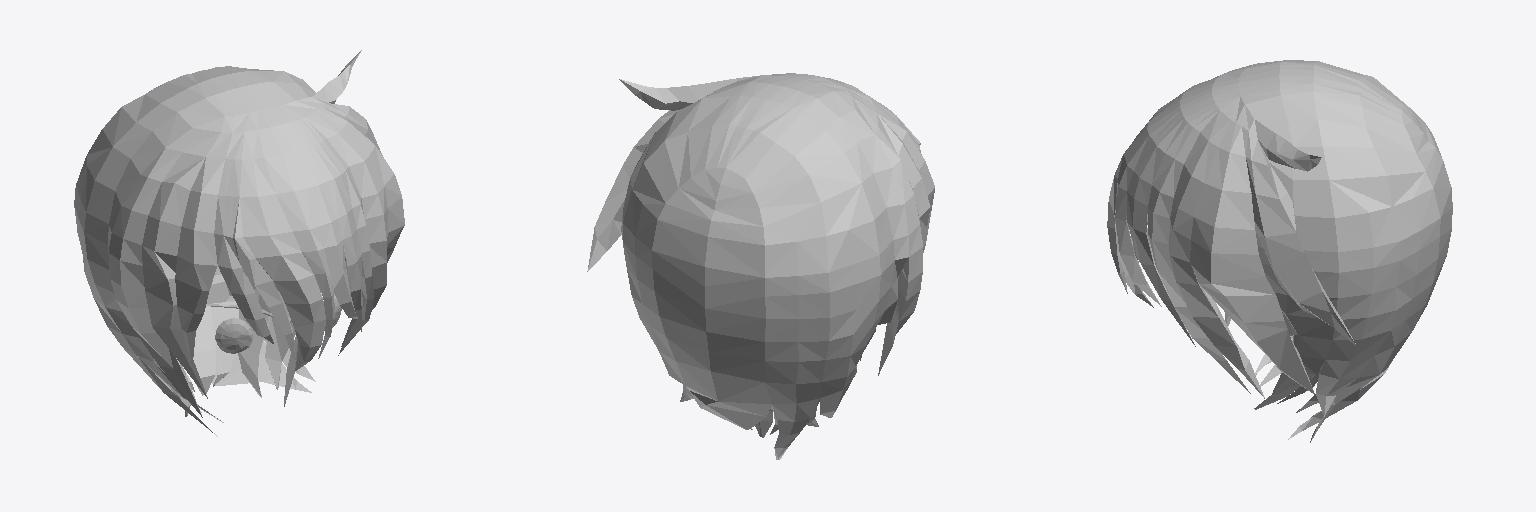
Rendered from blue.obj.
3 renders of one model, left to right at view 1: azimuth 30°, elevation 25°; view 2: azimuth 150°, elevation 25°; view 3: azimuth 270°, elevation 25°, orthographic.
Bounding box in the file's own units: 37.27 × 42.27 × 38.28.